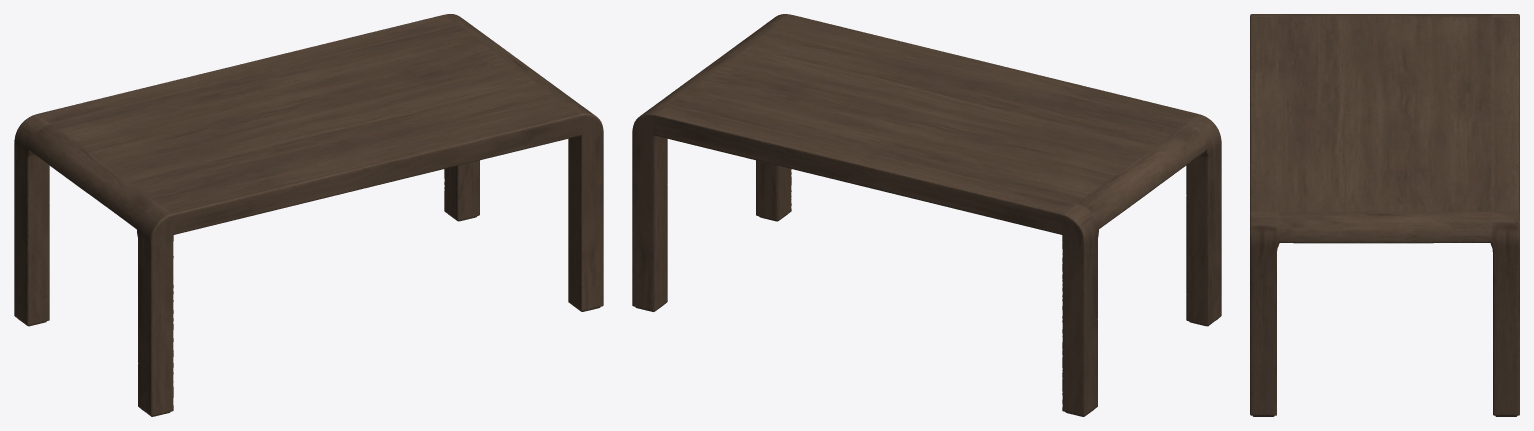
File: wardrobe.glb
The picture shows the model from 3 angles, left to right: view 1: azimuth 30°, elevation 25°; view 2: azimuth 150°, elevation 25°; view 3: azimuth 270°, elevation 25°; orthographic projection.
Parts seen in each view (by area): view 1: world; view 2: world; view 3: world.
Boxes of the visible parts, box(x1,y1,x2,y2) form: world: box(14, 14, 603, 416); world: box(632, 14, 1221, 416); world: box(1250, 14, 1519, 416).
Size of the model in its own units: 1 by 0.4209 by 0.5267.
1 material, 1 textured.
